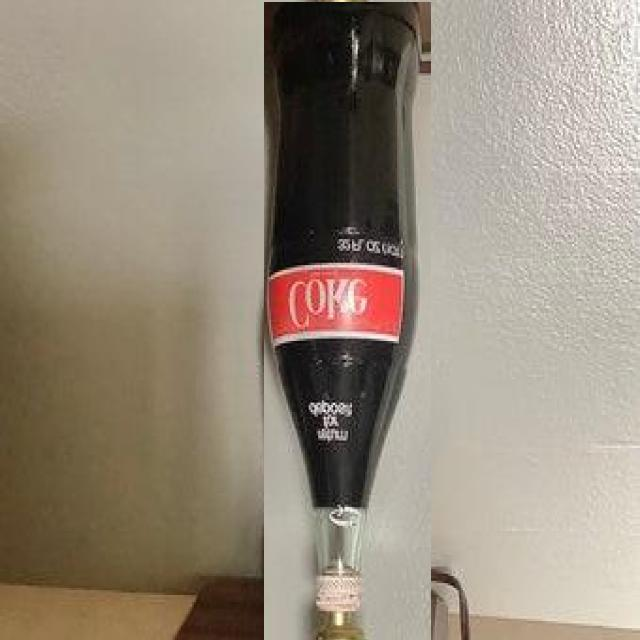coca-cola: (264, 2, 431, 640)
